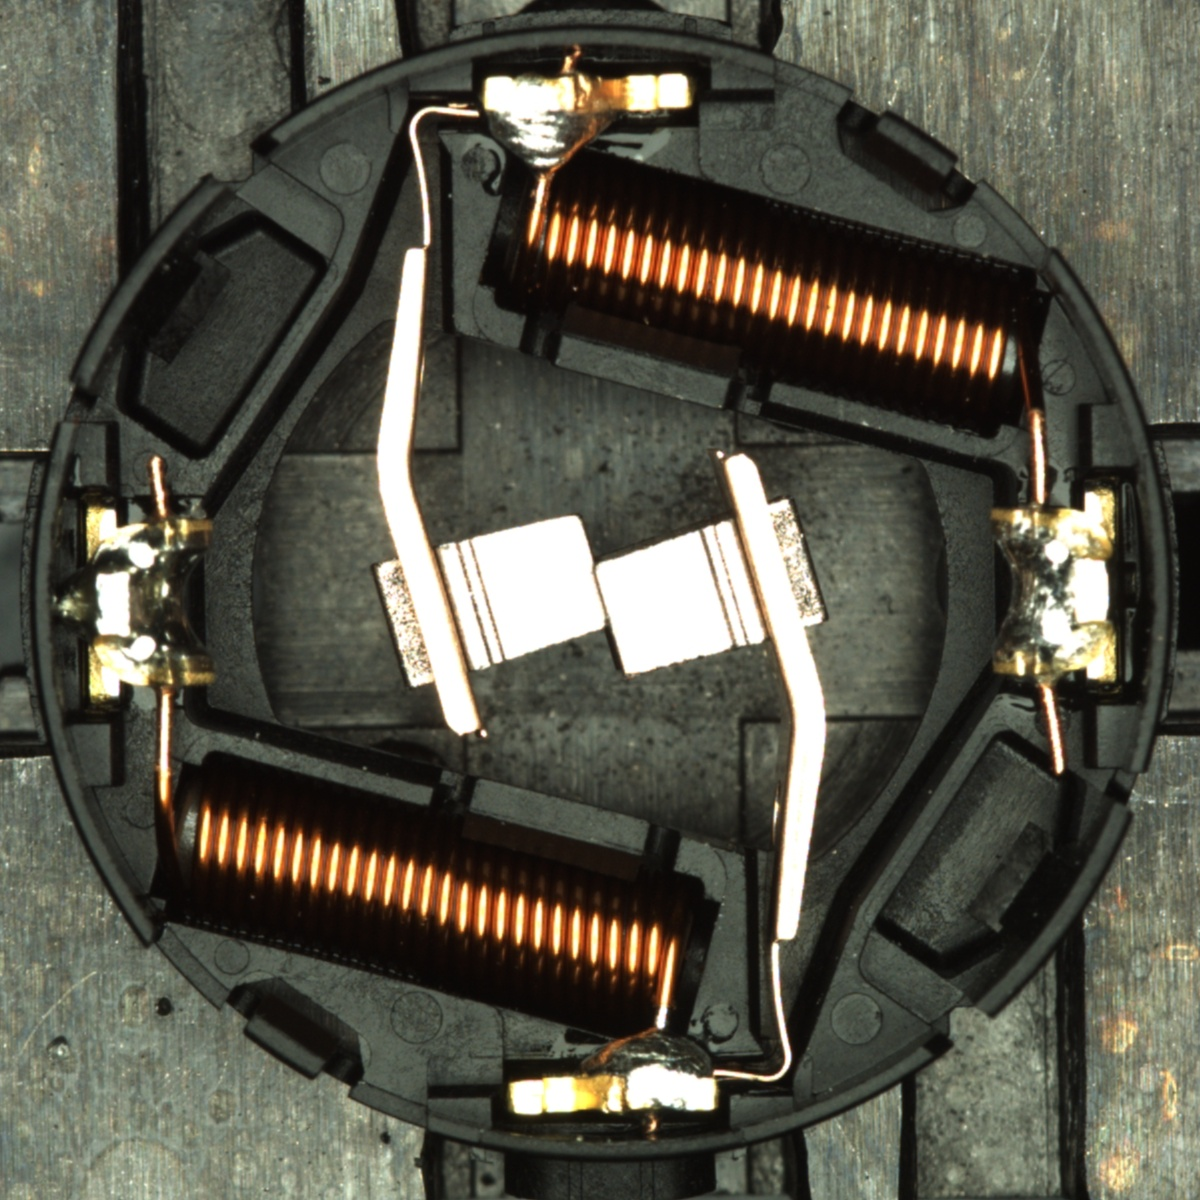1: (710, 930, 940, 1155), (252, 33, 481, 257)
2: (252, 930, 481, 1155), (710, 33, 940, 257)
3: (22, 257, 252, 481), (940, 705, 1168, 930)
4: (252, 257, 481, 481), (710, 705, 940, 930)
5: (481, 145, 710, 369), (481, 818, 710, 1042)
6: (710, 257, 940, 481), (252, 705, 481, 930)
7: (22, 705, 252, 930), (940, 257, 1168, 481)
cacbon: (397, 501, 795, 686)
chau_dien: (79, 501, 219, 702), (981, 489, 1123, 687)
tay_choi: (480, 71, 695, 176), (505, 1025, 720, 1121)
thanh_de: (952, 788, 1138, 1032), (59, 165, 243, 407)
vun_chi: (49, 565, 97, 634)
